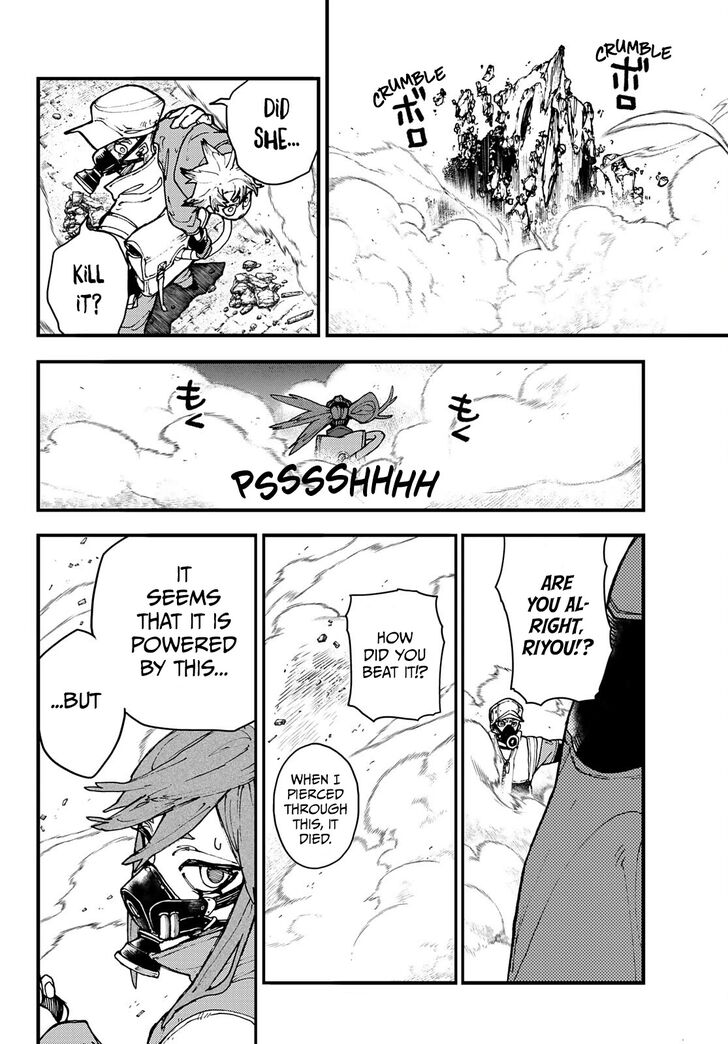bubble: (91, 535, 257, 731), (495, 535, 615, 704), (346, 589, 445, 722), (38, 629, 125, 778), (210, 79, 319, 185), (273, 743, 359, 869), (46, 216, 129, 336)
